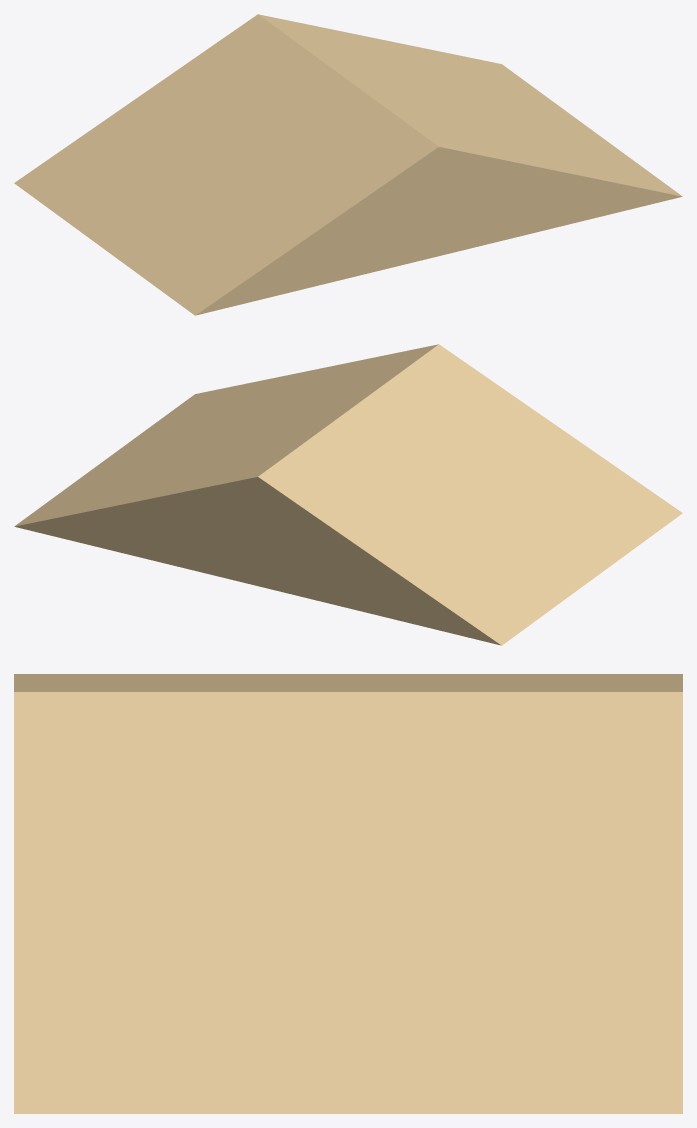
Rendered from dune.glb.
The picture shows the model from 3 angles, top to bottom: view 1: azimuth 30°, elevation 25°; view 2: azimuth 150°, elevation 25°; view 3: azimuth 270°, elevation 25°; orthographic projection. The views are drawn at different scales.
Bounding box in the file's own units: 14 × 3 × 9.
